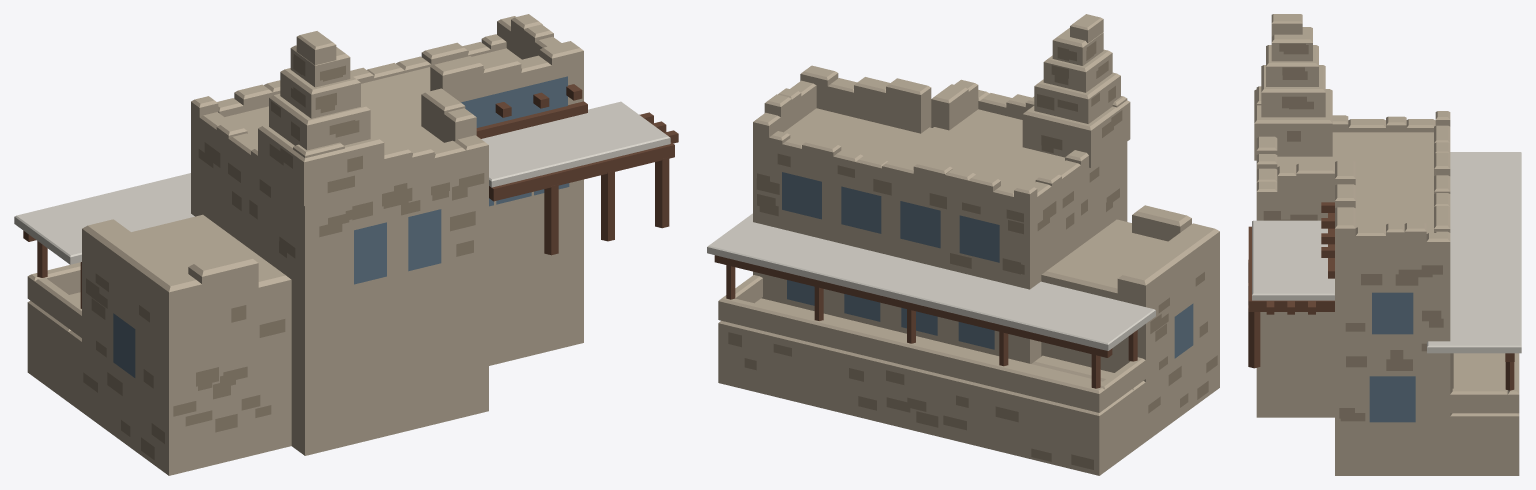
The model's file is grand-canyon-hermits-rest.glb.
3 views of the same model, side by side, from view 1: azimuth 30°, elevation 25°; view 2: azimuth 150°, elevation 25°; view 3: azimuth 270°, elevation 25° (orthographic). The views are drawn at different scales.
Parts seen in each view (by area): view 1: Hermits Rest; view 2: Hermits Rest; view 3: Hermits Rest.
Part boxes in pixels (x1,y1,x2,y2): Hermits Rest: (14, 14, 678, 475); Hermits Rest: (707, 14, 1219, 475); Hermits Rest: (1248, 14, 1521, 475).
Bounding box in the file's own units: 21.8 × 16.1 × 11.86.
